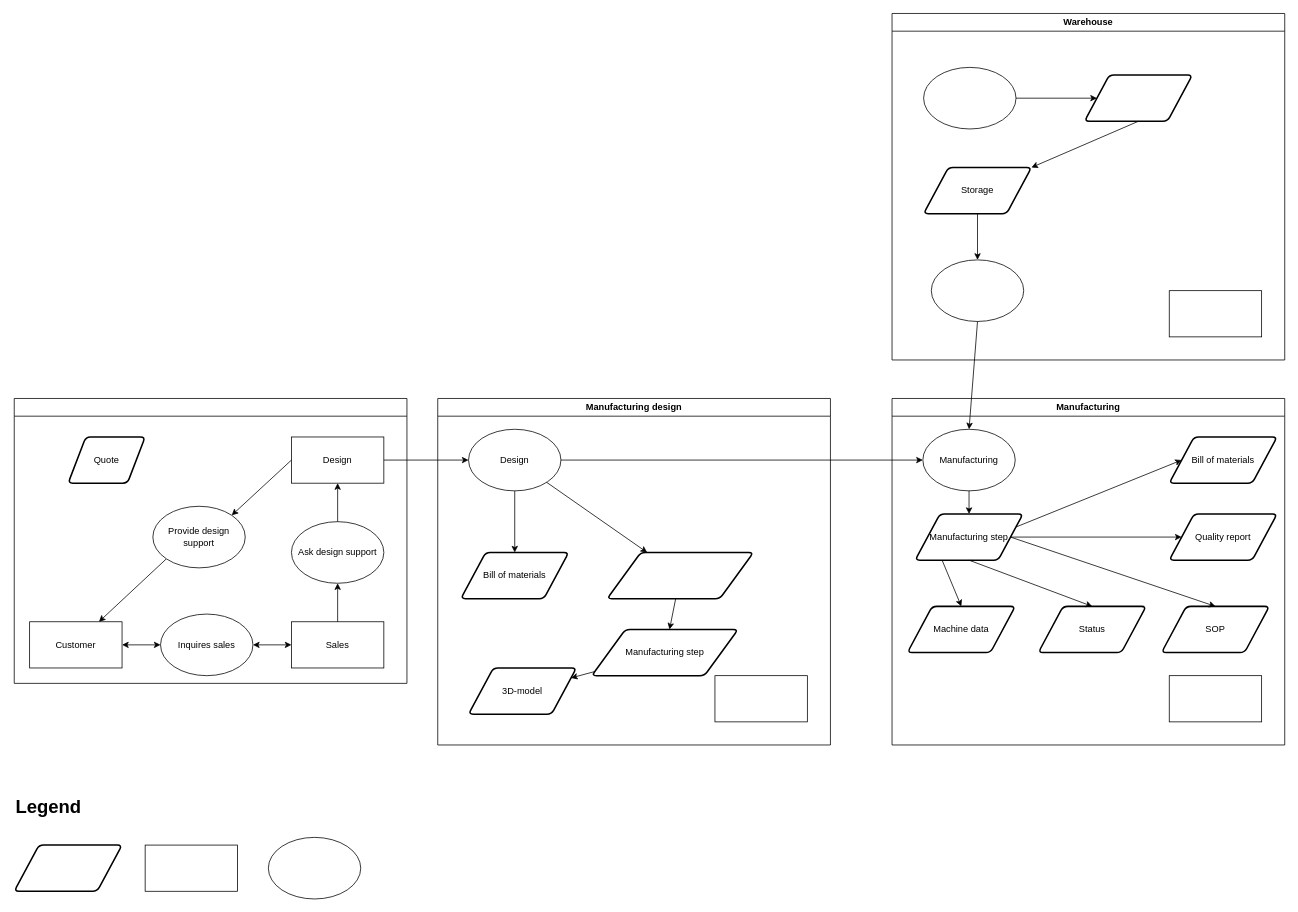
This 1298x912 diagram has some shape labels left out. Here are the shapes that lost their labels. From the top down, the centre of each, then its label:
pixel 969 98: Storing
pixel 1138 98: Part
pixel 977 290: Retrieving
pixel 1215 313: Warehouse personel
pixel 210 540: Quotation process
pixel 680 575: Manufacturing steps
pixel 760 698: Designer
pixel 1215 698: Manufacturer
pixel 67 868: Data
pixel 191 867: Actor
pixel 314 868: Action
